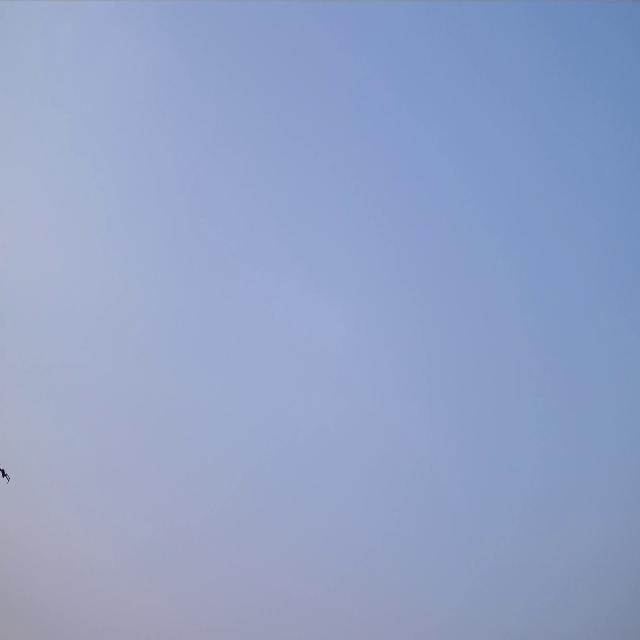UAV: (0, 460, 11, 485)
